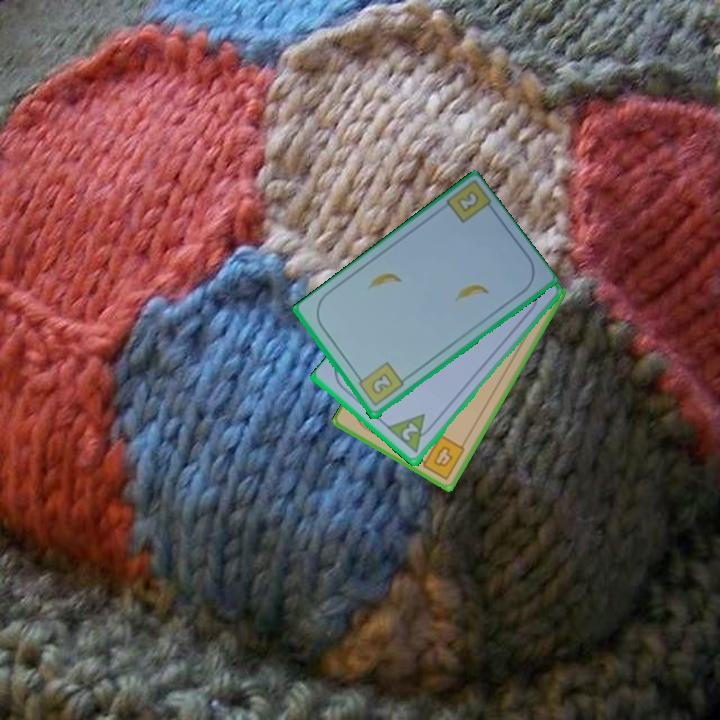2b: (353, 359, 407, 409), (456, 190, 480, 213)
2p: (398, 419, 421, 444)
4b: (414, 431, 468, 483)
